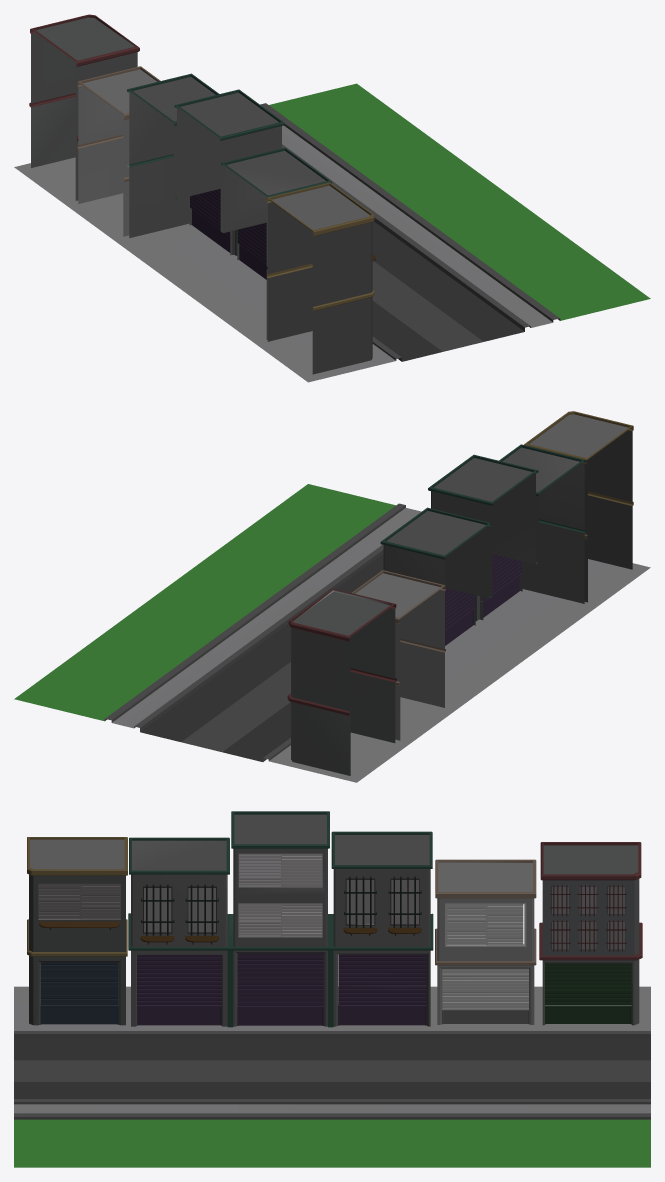
Rendered from Tile_Rua_4.fbx.
The picture shows the model from 3 angles, top to bottom: view 1: azimuth 30°, elevation 25°; view 2: azimuth 150°, elevation 25°; view 3: azimuth 270°, elevation 25°; orthographic projection. The views are drawn at different scales.
Parts seen in each view (by area): view 1: Tile_Rua_4; view 2: Tile_Rua_4; view 3: Tile_Rua_4.
Part boxes in pixels (x1,y1,x2,y2): Tile_Rua_4: (14,14,650,382); Tile_Rua_4: (14,411,650,782); Tile_Rua_4: (14,811,650,1167).
Size of the model in its own units: 1209 by 574 by 1797.
